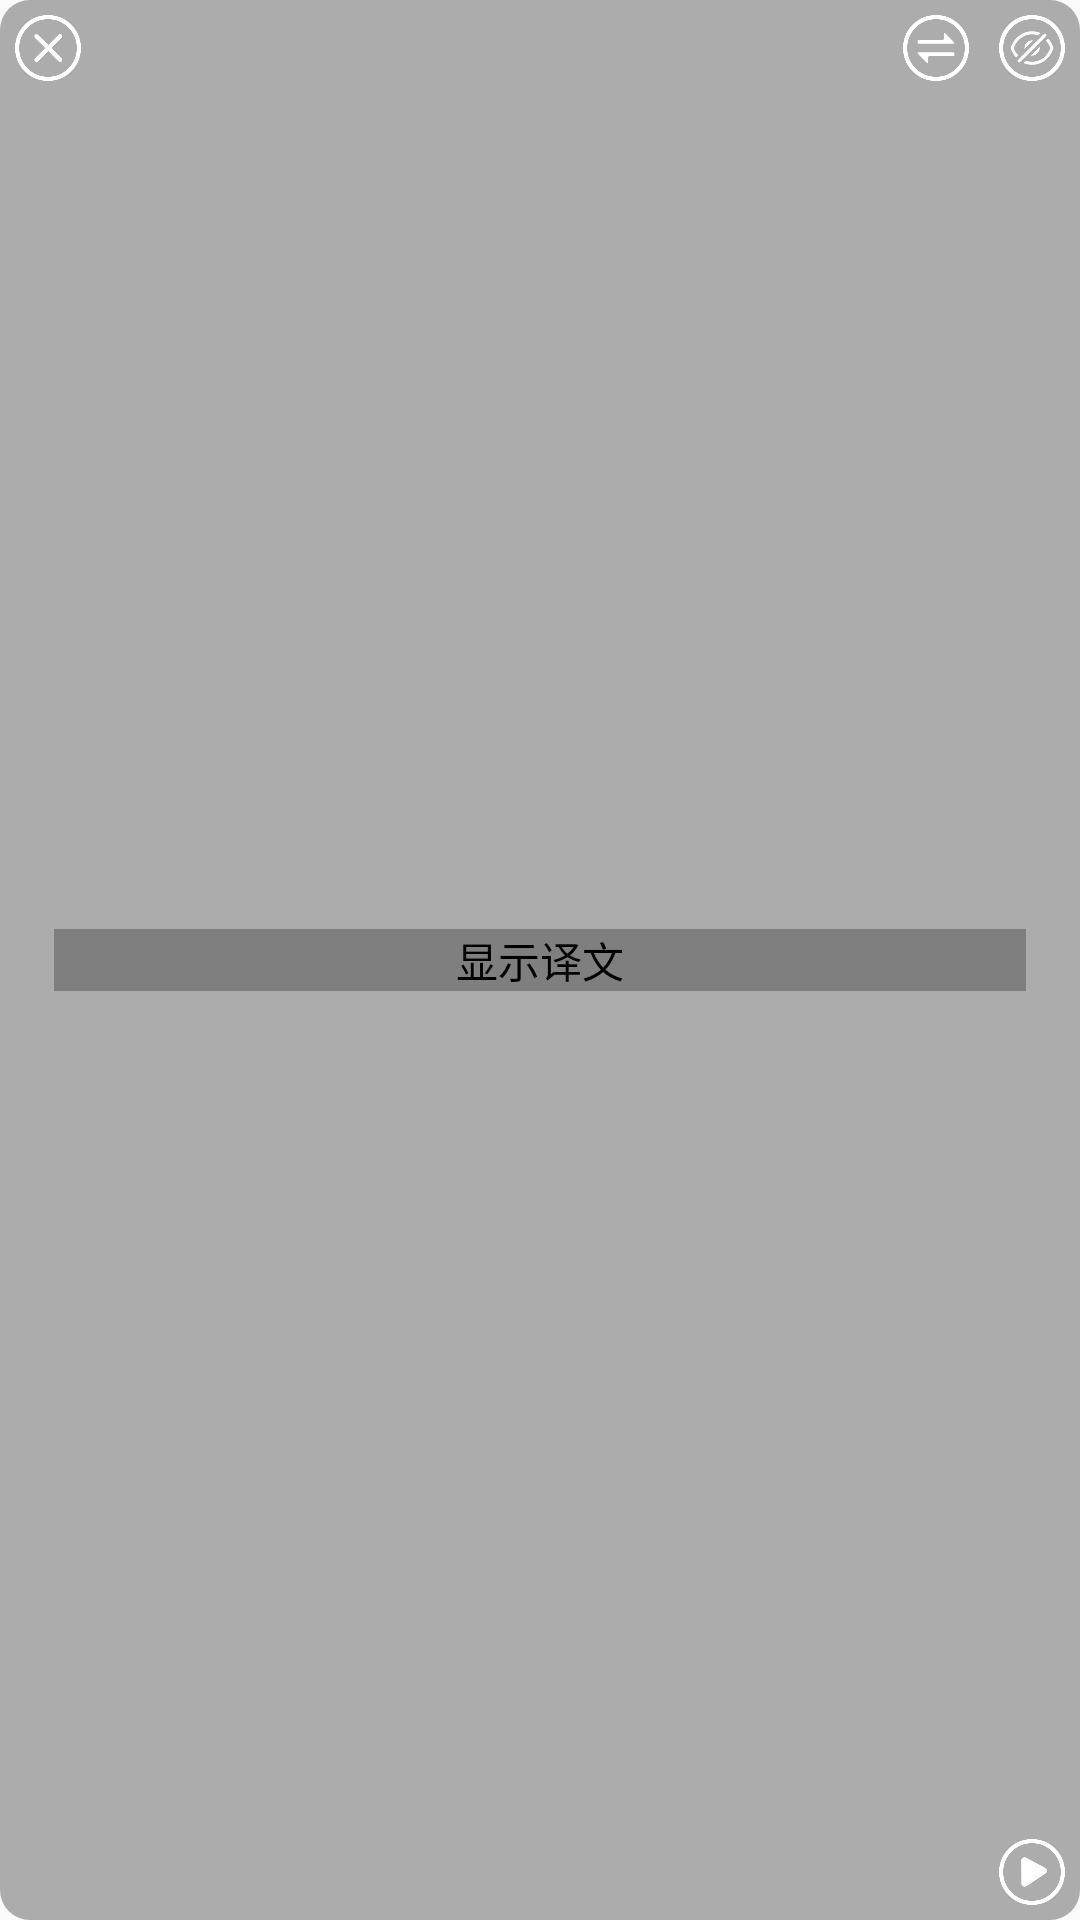

Named icons in this screenshot (1080px x 1920px) and their centers, [x,y]:
关闭: [40,40]
开始同步字幕: [1039,1879]
译文-原文切换: [936,48]
隐藏菜单: [1039,40]
